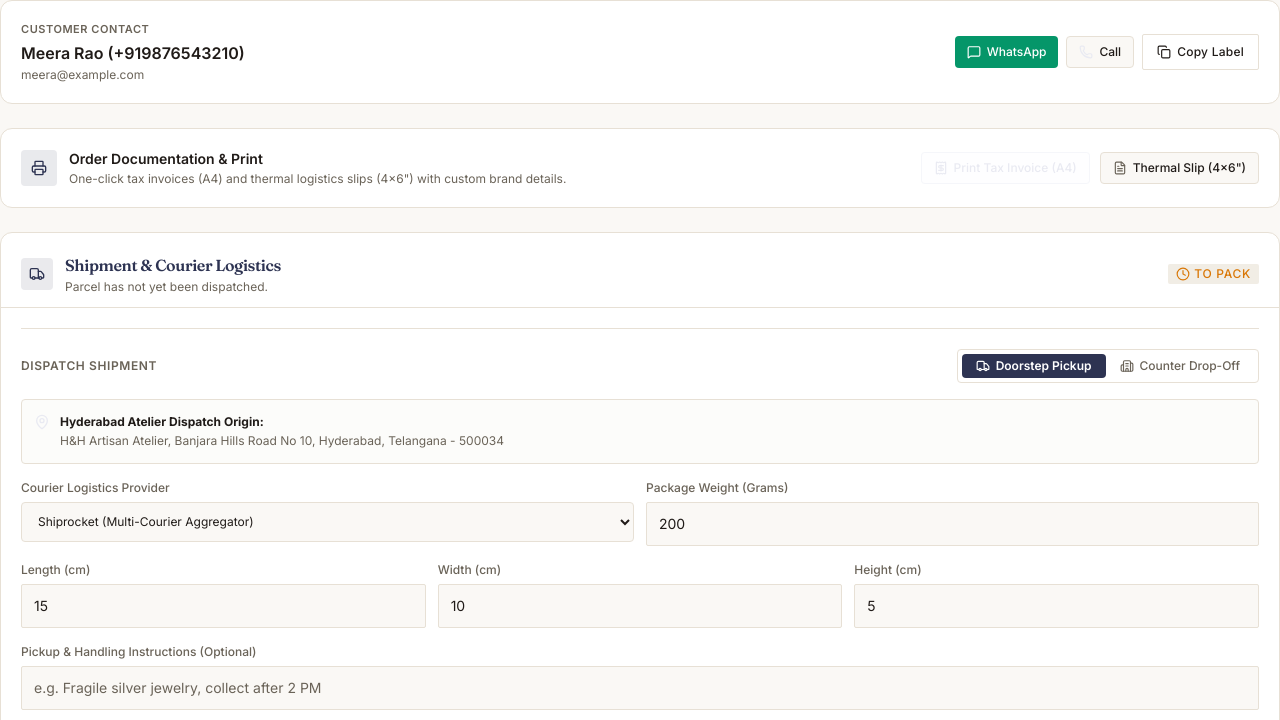
OrderFulfillmentActions Component › renders customer communication links and copies address to clipboard
This screenshot has width=1280, height=720.
Expected: the text "Customer Contact" is shown, [21, 22, 149, 36]
Expected: the text "Meera Rao (+919876543210)" is shown, [21, 41, 245, 65]
Note: Copy label button
Click the button "Copy Label": {"x": 1201, "y": 52} [1142, 34, 1259, 70]
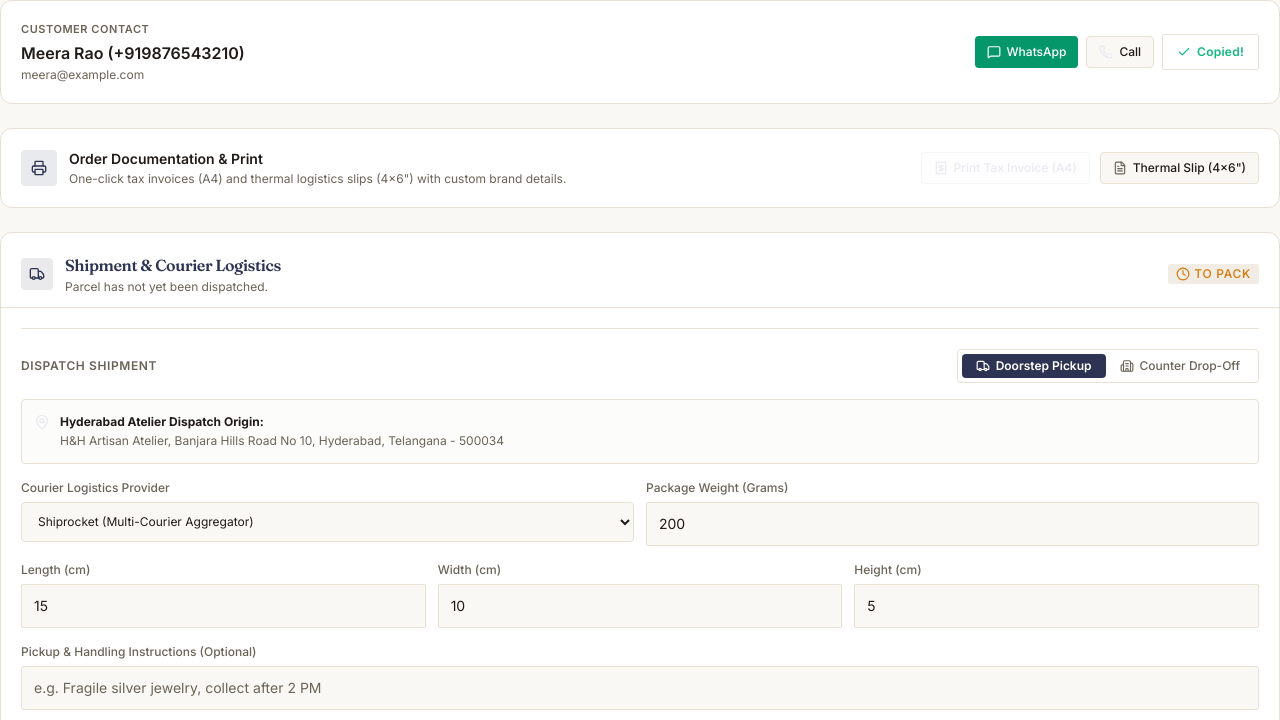
Now the text "Copied!" is shown, box [1197, 44, 1244, 60]
